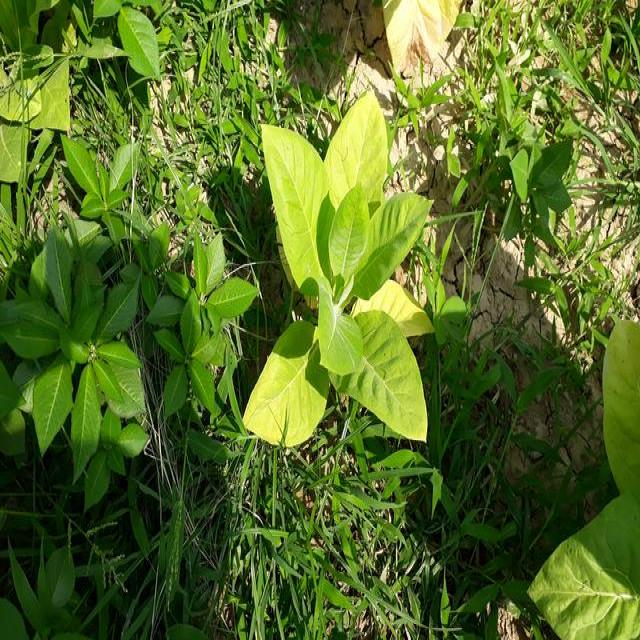crop: (242, 89, 447, 460)
